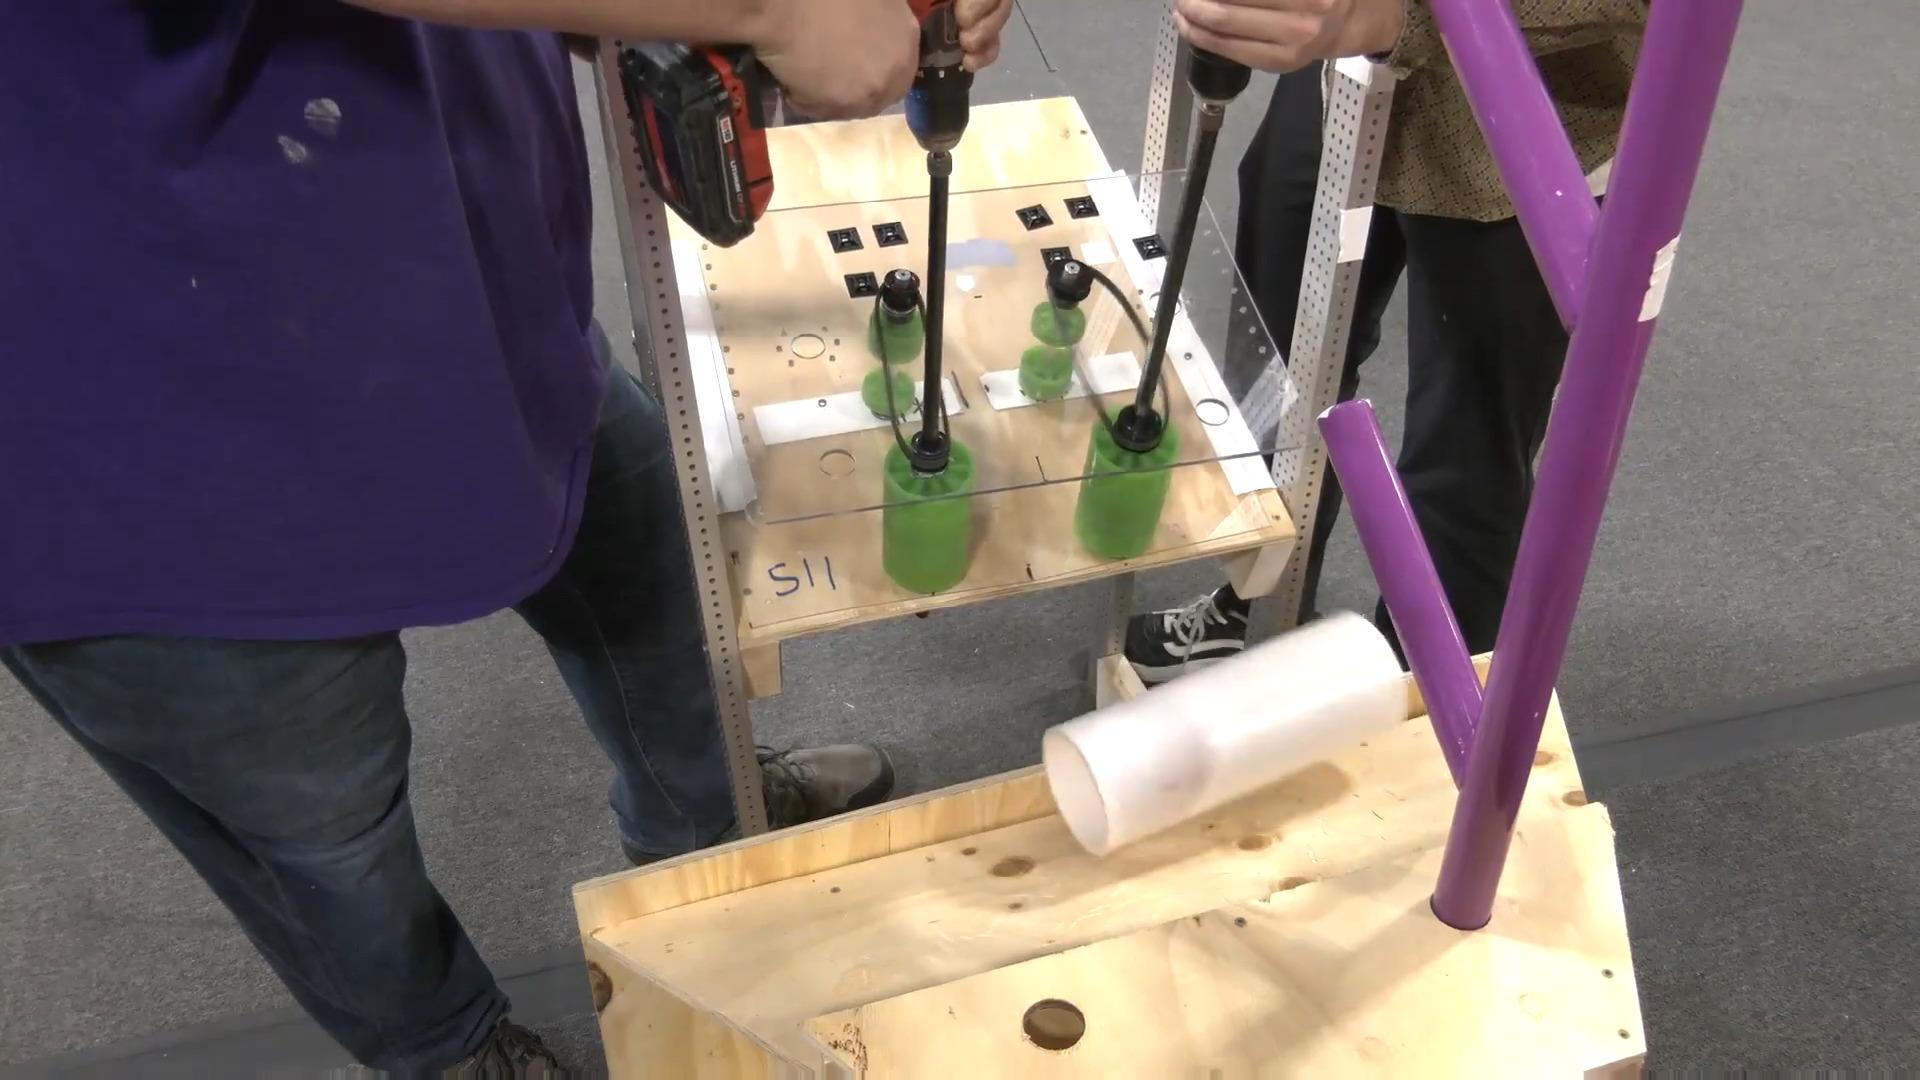coral: (1040, 611, 1407, 856)
